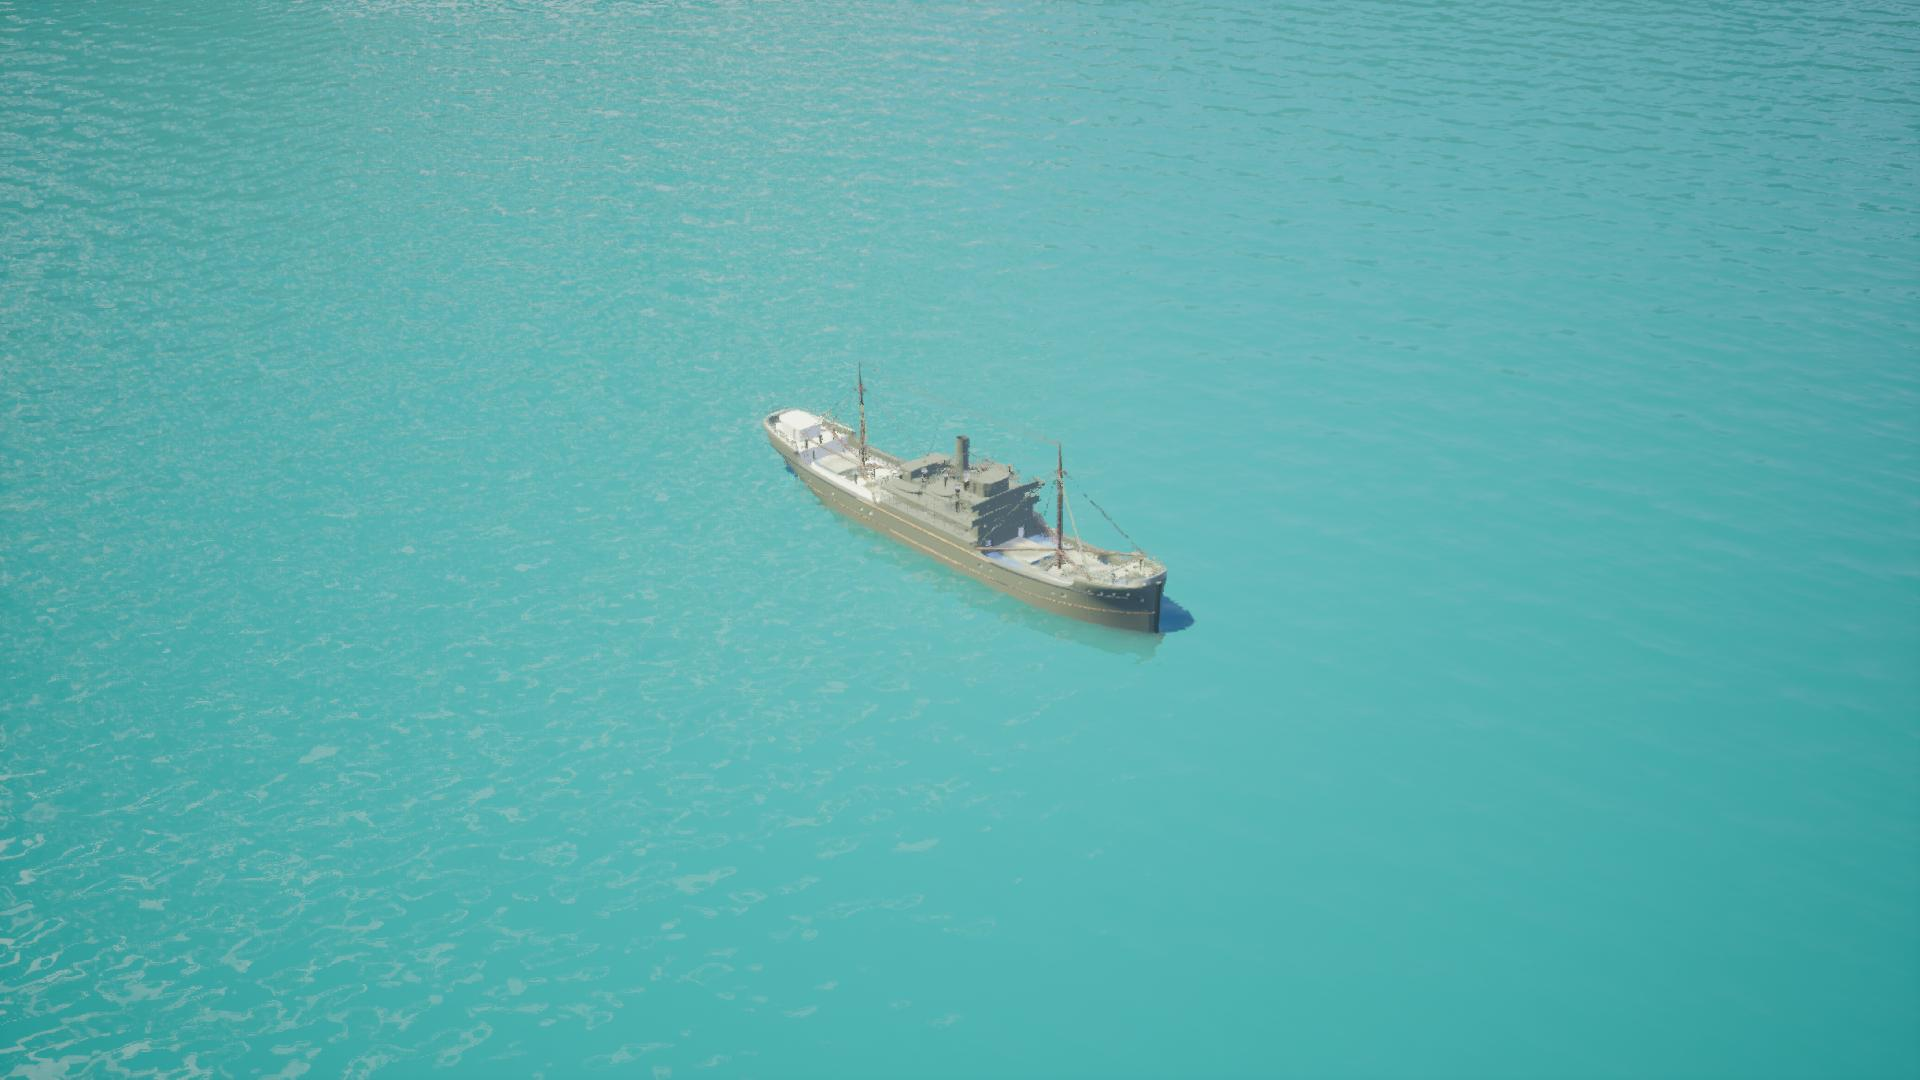Fishing Boat: (758, 405, 1176, 633)
